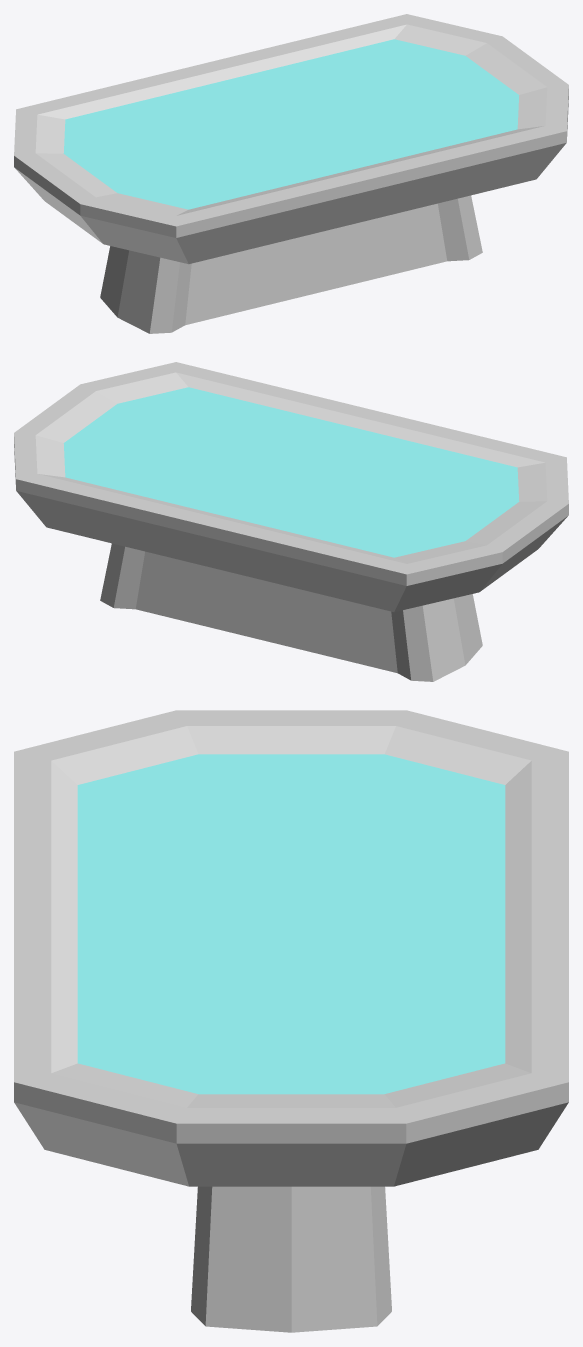
File: SciFi_Modular_Table_Long_White_01.fbx
The picture shows the model from 3 angles, top to bottom: view 1: azimuth 30°, elevation 25°; view 2: azimuth 150°, elevation 25°; view 3: azimuth 270°, elevation 25°; orthographic projection. The views are drawn at different scales.
Parts seen in each view (by area): view 1: SciFi_Modular_Table_Long_White_01; view 2: SciFi_Modular_Table_Long_White_01; view 3: SciFi_Modular_Table_Long_White_01.
Part boxes in pixels (x1=…): SciFi_Modular_Table_Long_White_01: x1=14, y1=14, x2=568, y2=333; SciFi_Modular_Table_Long_White_01: x1=14, y1=362, x2=568, y2=681; SciFi_Modular_Table_Long_White_01: x1=14, y1=710, x2=568, y2=1332.
Bounding box in the file's own units: 126 × 38.04 × 71.23.
